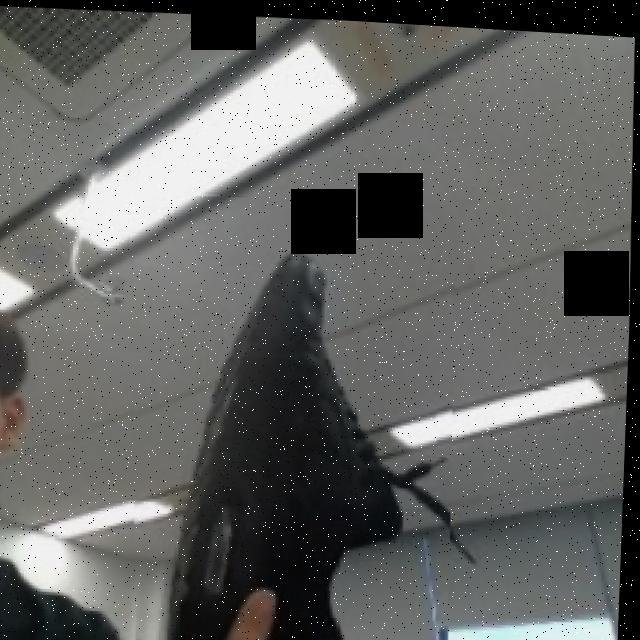shoe: (115, 184, 465, 640)
